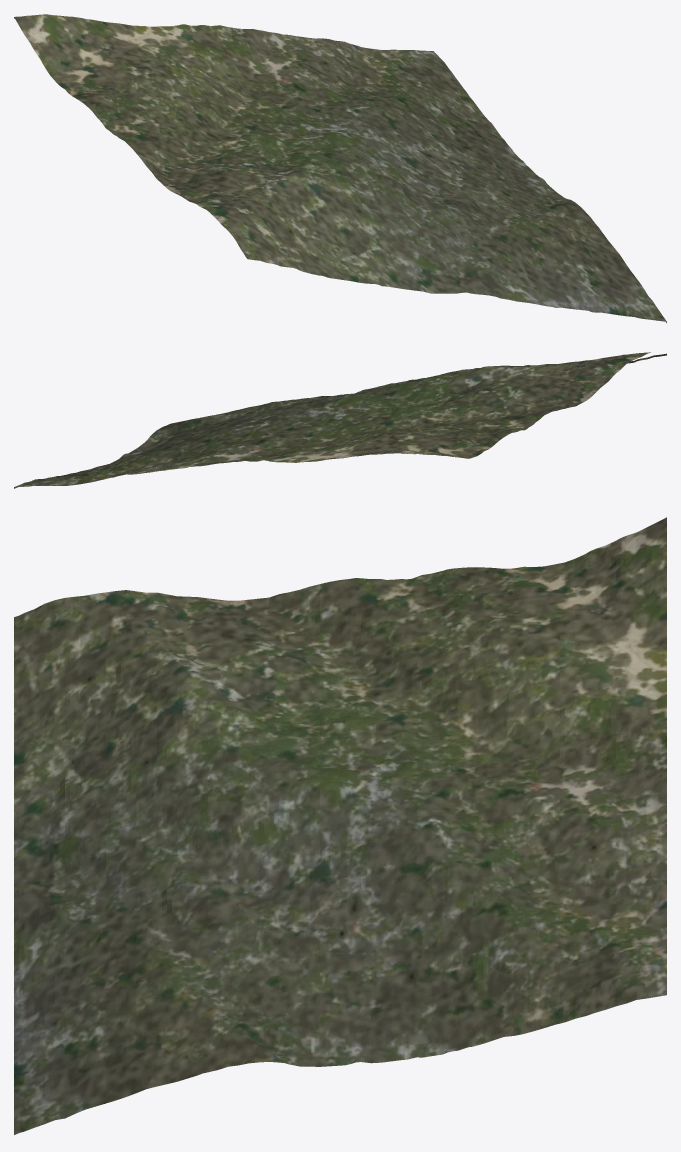
3 views of the same model, one above another, from view 1: azimuth 30°, elevation 25°; view 2: azimuth 150°, elevation 25°; view 3: azimuth 270°, elevation 25° (orthographic). The views are drawn at different scales.
Bounding box in the file's own units: 250 × 136 × 241.
1 material, 1 textured.
